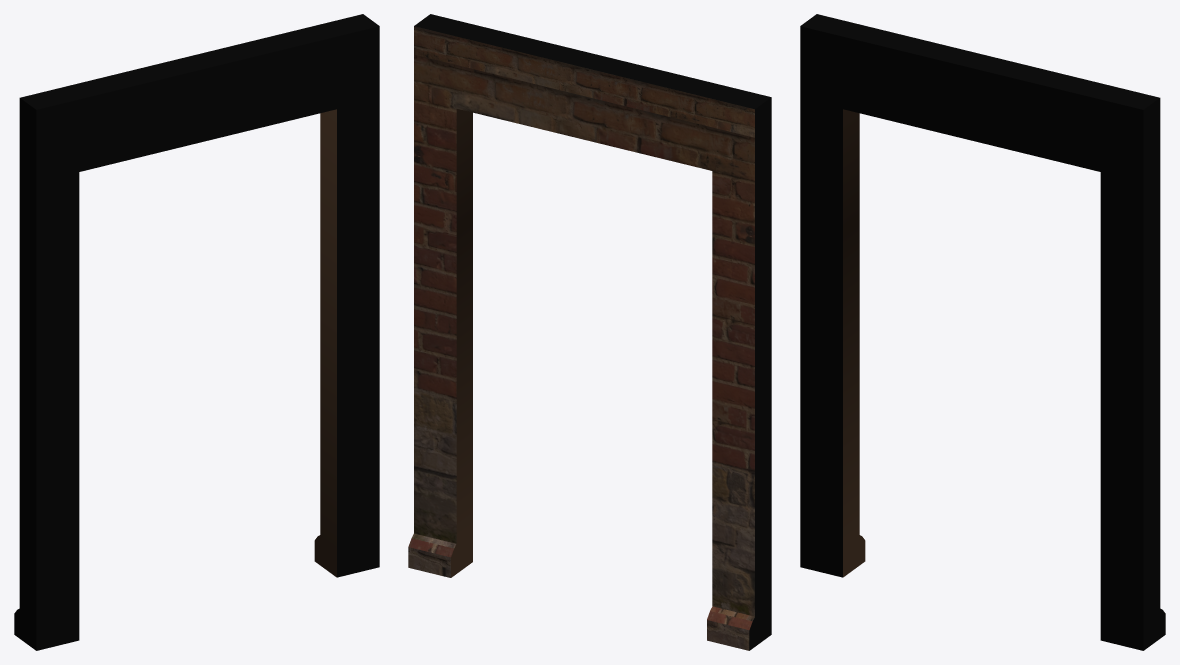
File: BrickWall_Door_01.fbx
The picture shows the model from 3 angles, left to right: view 1: azimuth 30°, elevation 25°; view 2: azimuth 150°, elevation 25°; view 3: azimuth 330°, elevation 25°; orthographic projection.
Parts seen in each view (by area): view 1: Cube.191; view 2: Cube.191; view 3: Cube.191.
Part boxes in pixels (left/top/right/bottom): Cube.191: left=14, top=14, right=379, bottom=650; Cube.191: left=408, top=14, right=771, bottom=650; Cube.191: left=800, top=14, right=1165, bottom=650.
Bounding box in the file's own units: 0.2252 × 2 × 3.01.
Materials: 3 (1 with a texture image).
